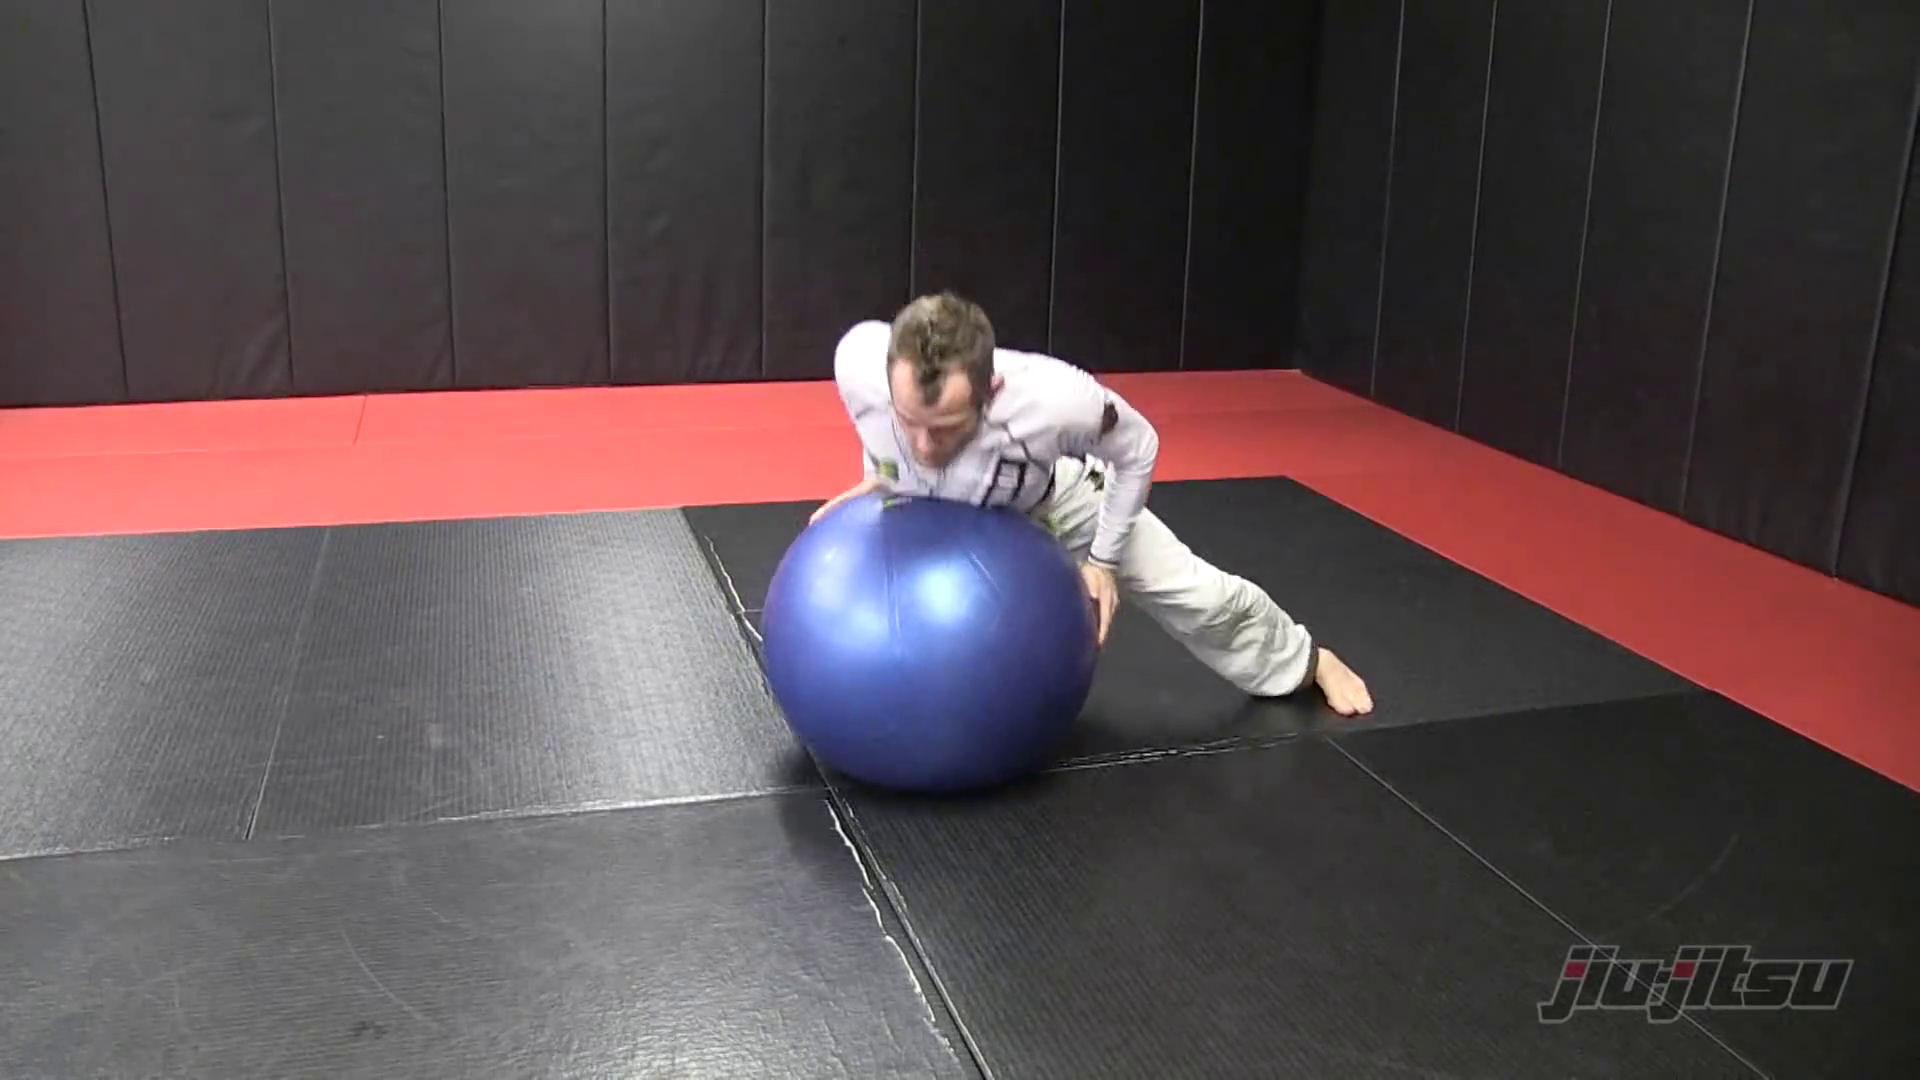yogaball: (746, 481, 1120, 803)
